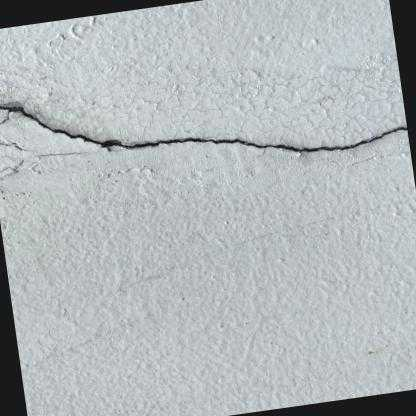crack: (0, 100, 407, 152)
